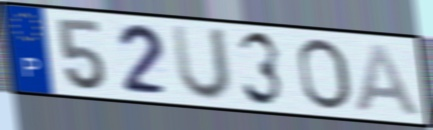2: (116, 20, 174, 99)
3: (235, 29, 291, 108)
5: (53, 15, 109, 93)
A: (354, 41, 426, 119)
O: (295, 36, 356, 113)
U: (169, 22, 235, 104)
